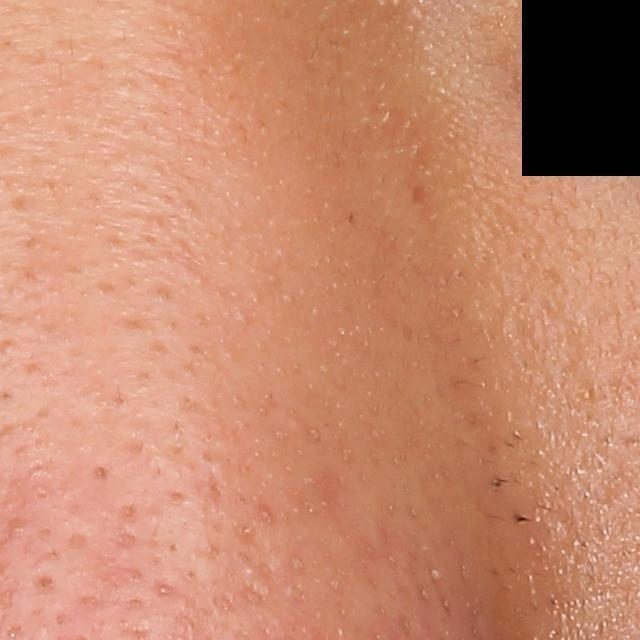comedo: (89, 463, 115, 485), (152, 578, 177, 600)
